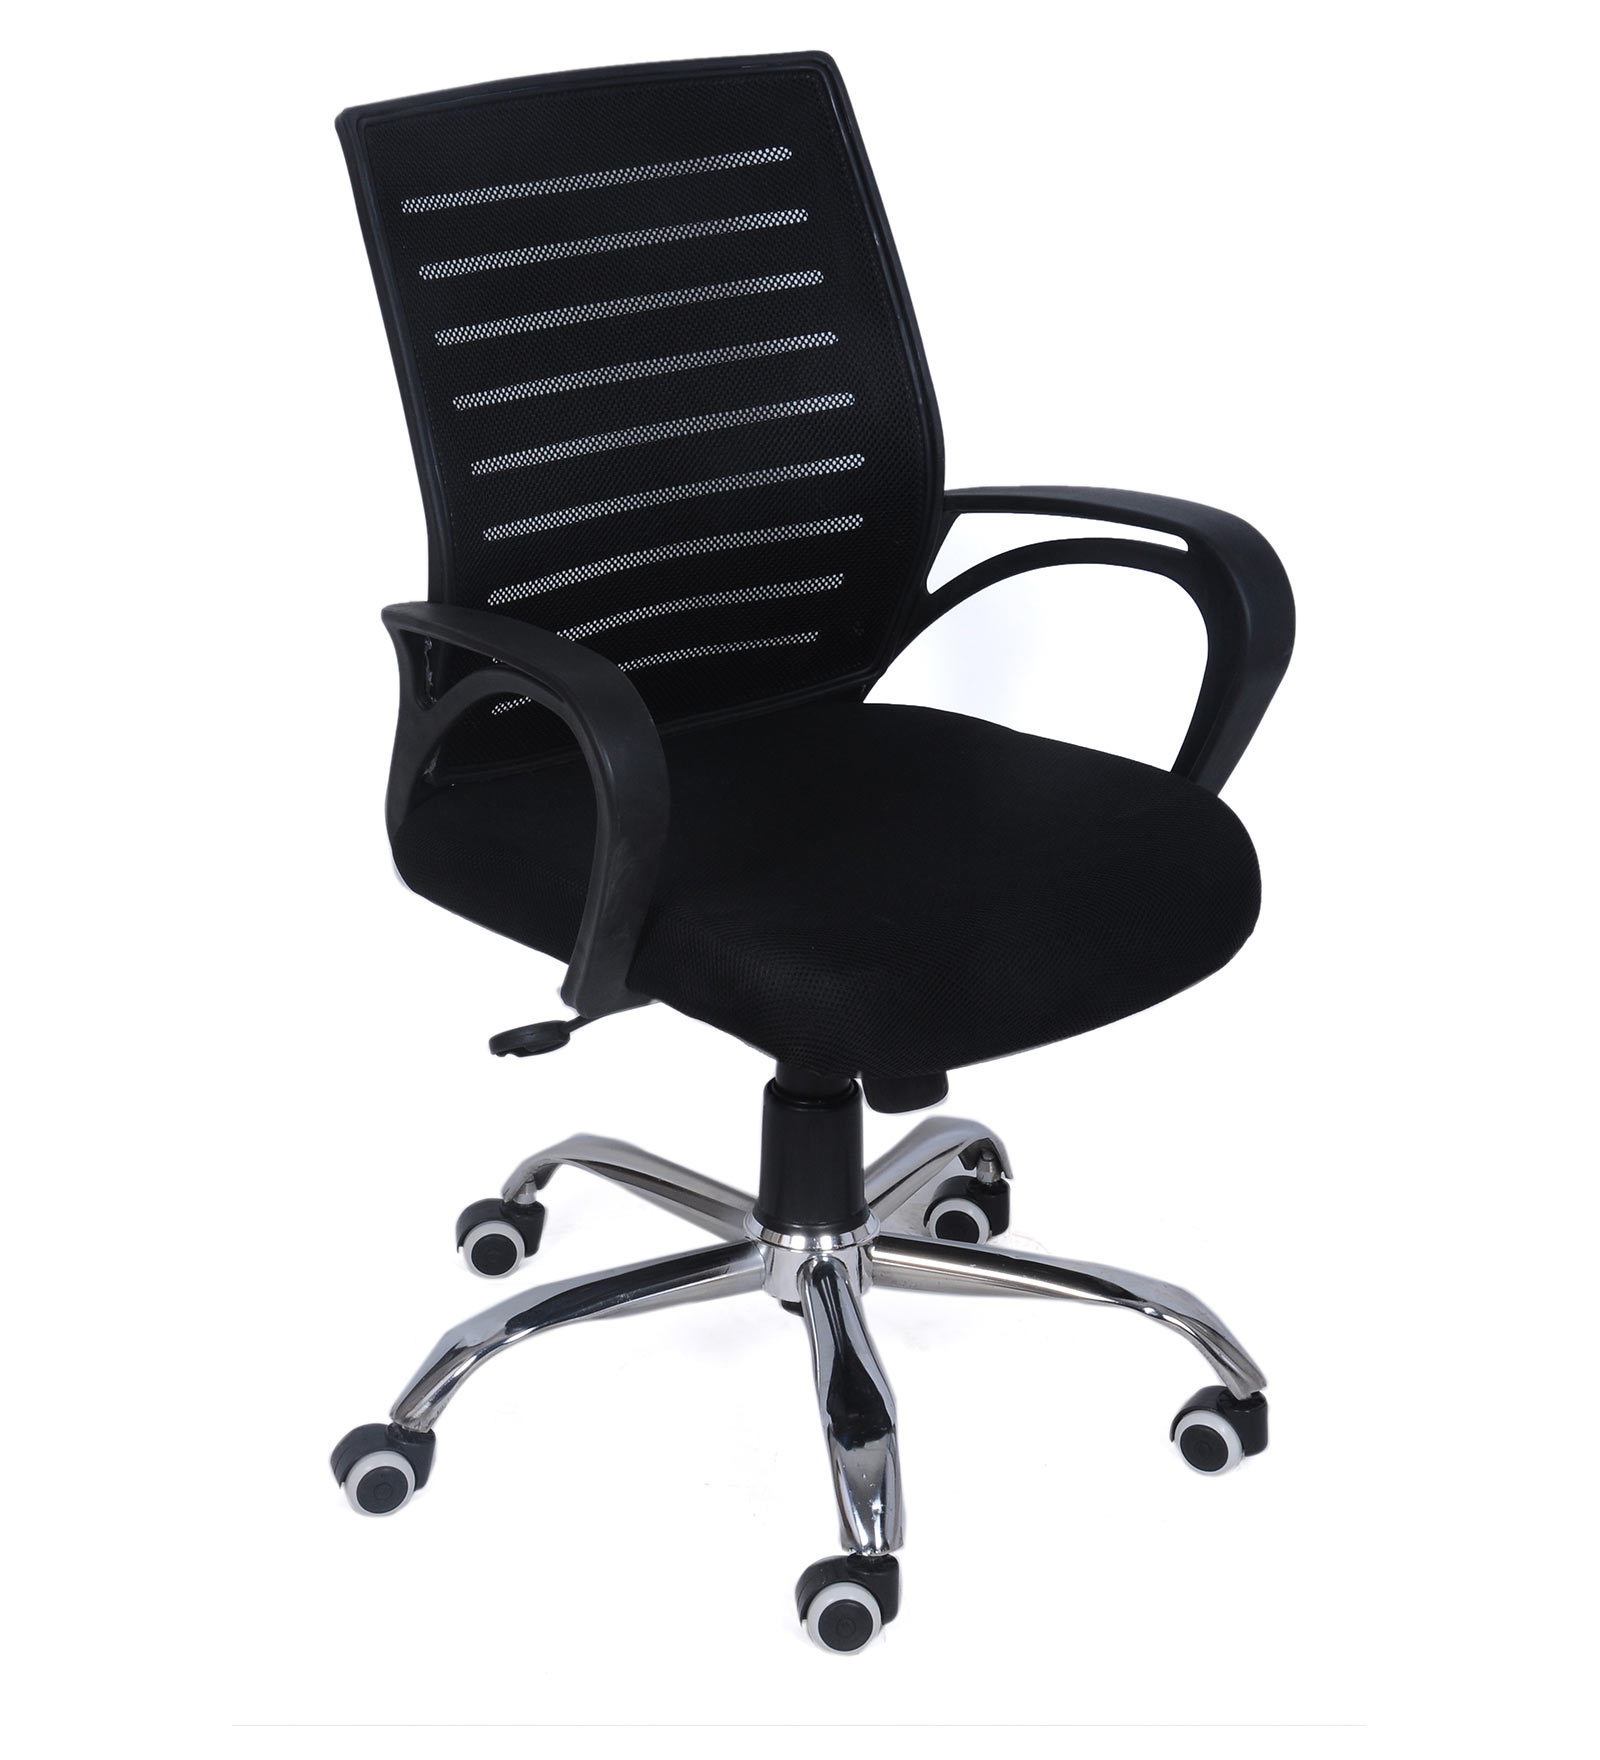Classical Medium Back Ergonomic Chair by Furniease: (251, 12, 1316, 1650)
